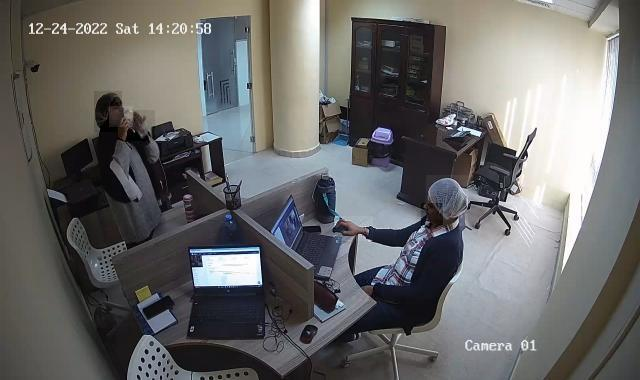gloves: (426, 175, 468, 226), (94, 91, 122, 132)
no_apron: (118, 110, 156, 142), (335, 217, 373, 242), (357, 278, 382, 300)
no_hairnet: (422, 204, 444, 229), (109, 106, 133, 127)
